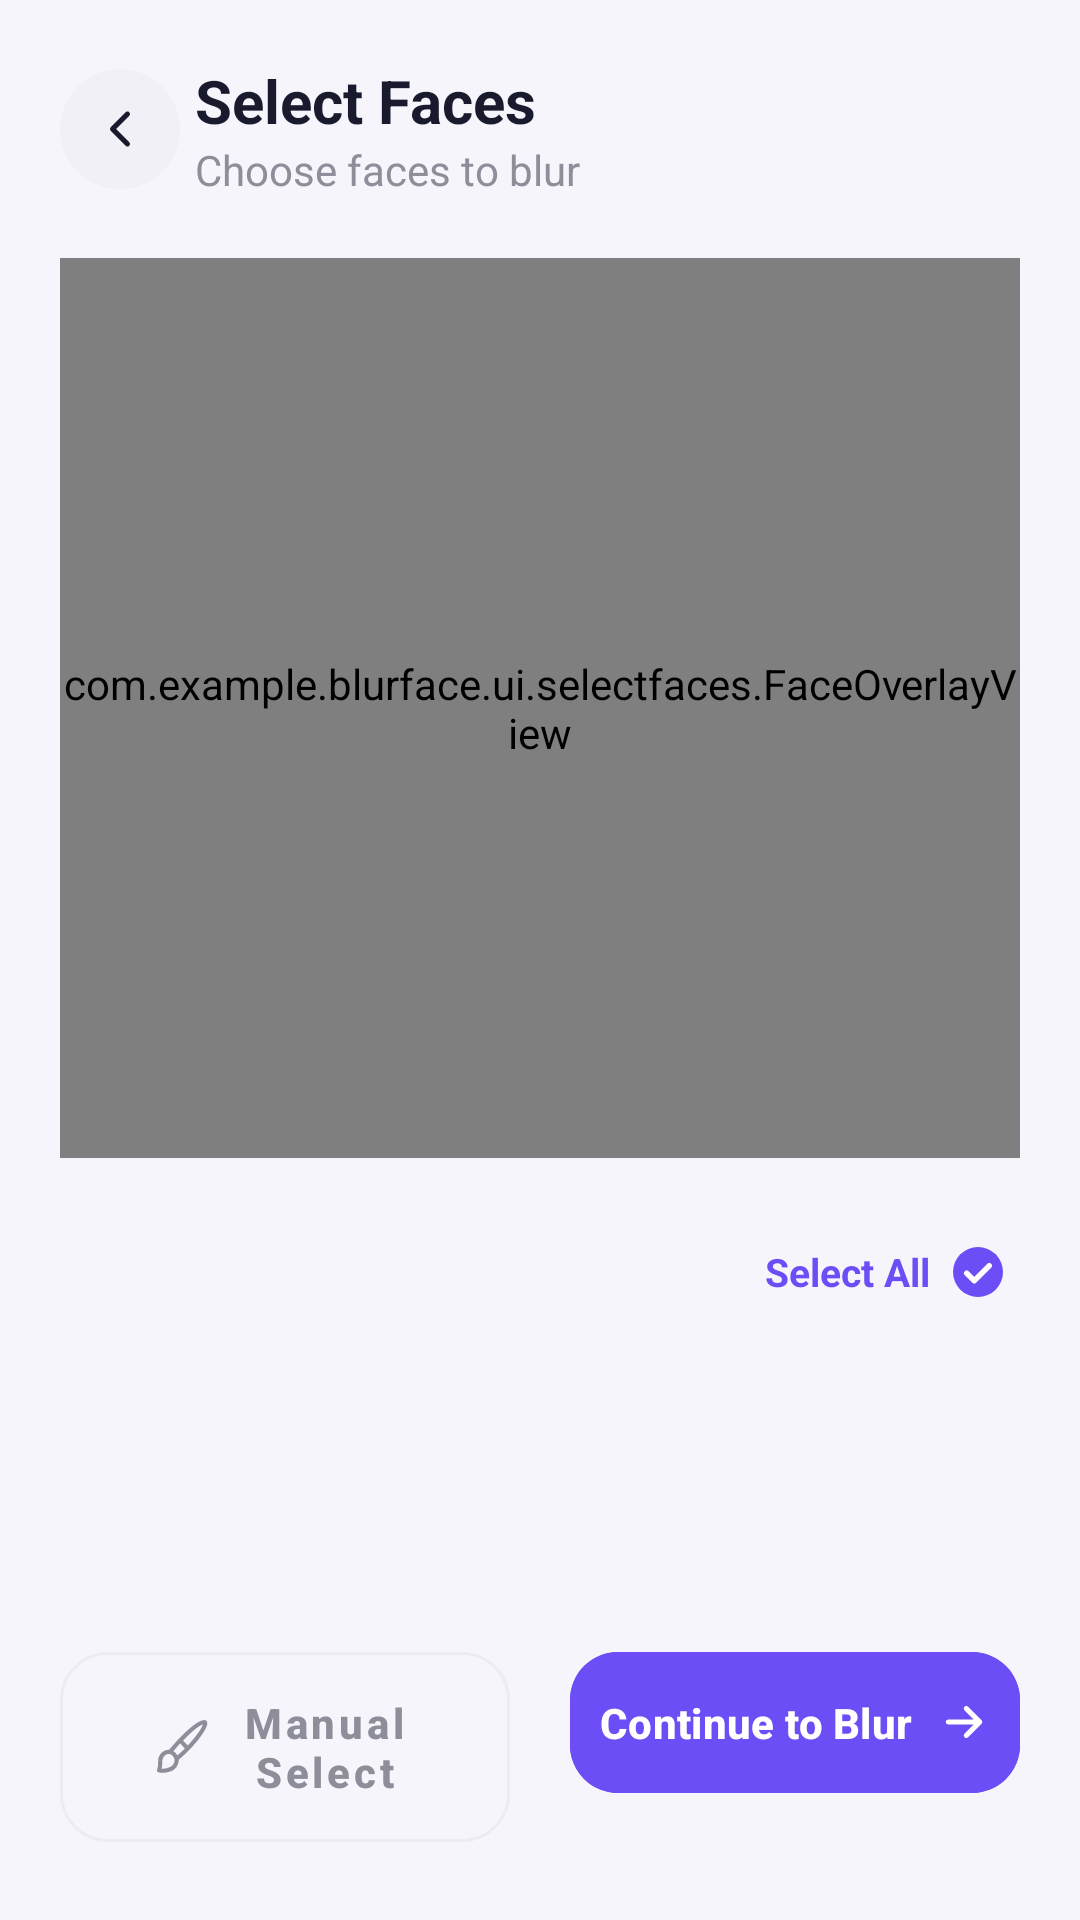

Screen size 1080×1920. Icon name, then its box in pixels as (x1, y1, x2, y2):
Back: (110, 111, 130, 147)
check circle: (953, 1247, 1003, 1297)
